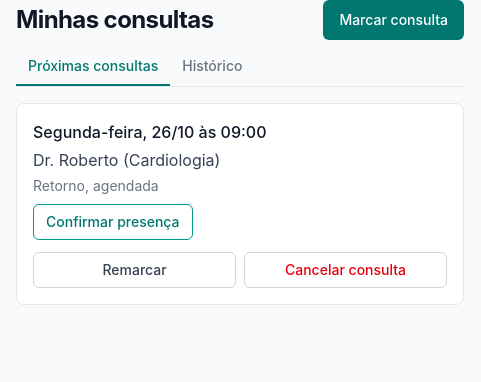
Test: RN05: Cancelamento de Consultas e Liberação de Horário (Front-end) › Área do Paciente (MinhasConsultas) › exibe alerta de erro se a API rejeitar o cancelamento (ex: consulta já cancelada)
The width and height of the screenshot is (481, 382).
What coordinates should you click on to do the following:
click the button "Cancelar consulta"
I would click on:
 (346, 270)
Its box is [244,252,447,288].
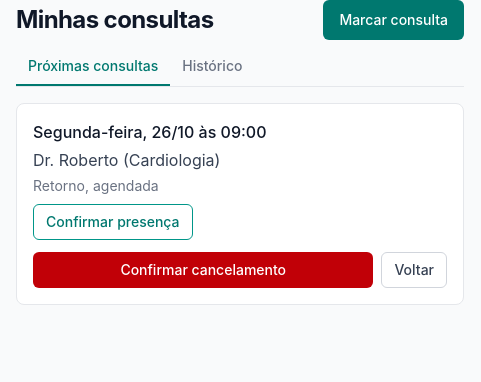
What coordinates should you click on to do the following:
click the button "Confirmar cancelamento"
I would click on:
 (203, 270)
Its box is [33,252,373,288].
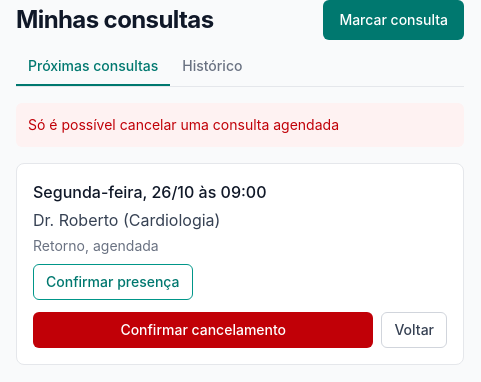
Expected: the text "Só é possível cancelar uma consulta agendada" is shown, [16,103,464,147]
